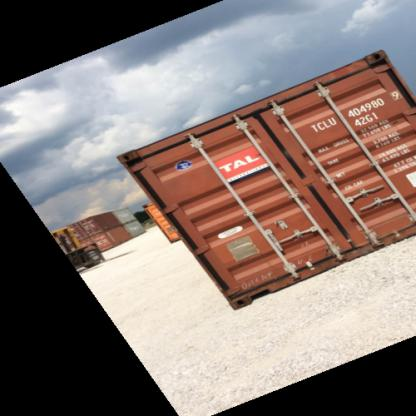Damage: (332, 224, 370, 252)
